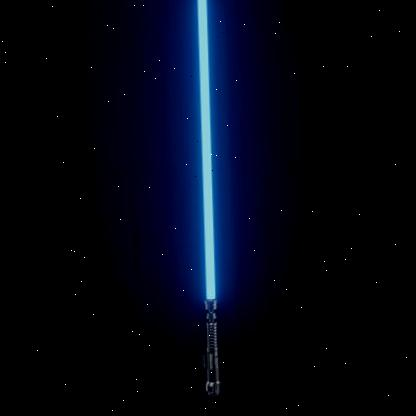lightsaber: (192, 0, 220, 397)
